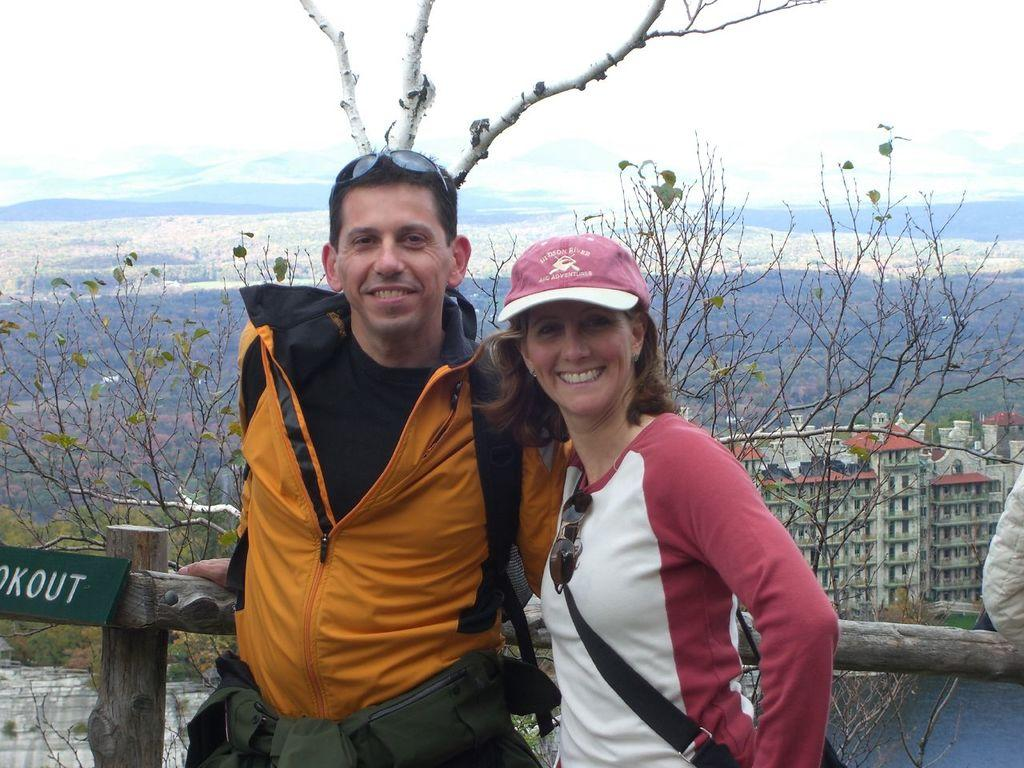Hat: (492, 232, 652, 322)
